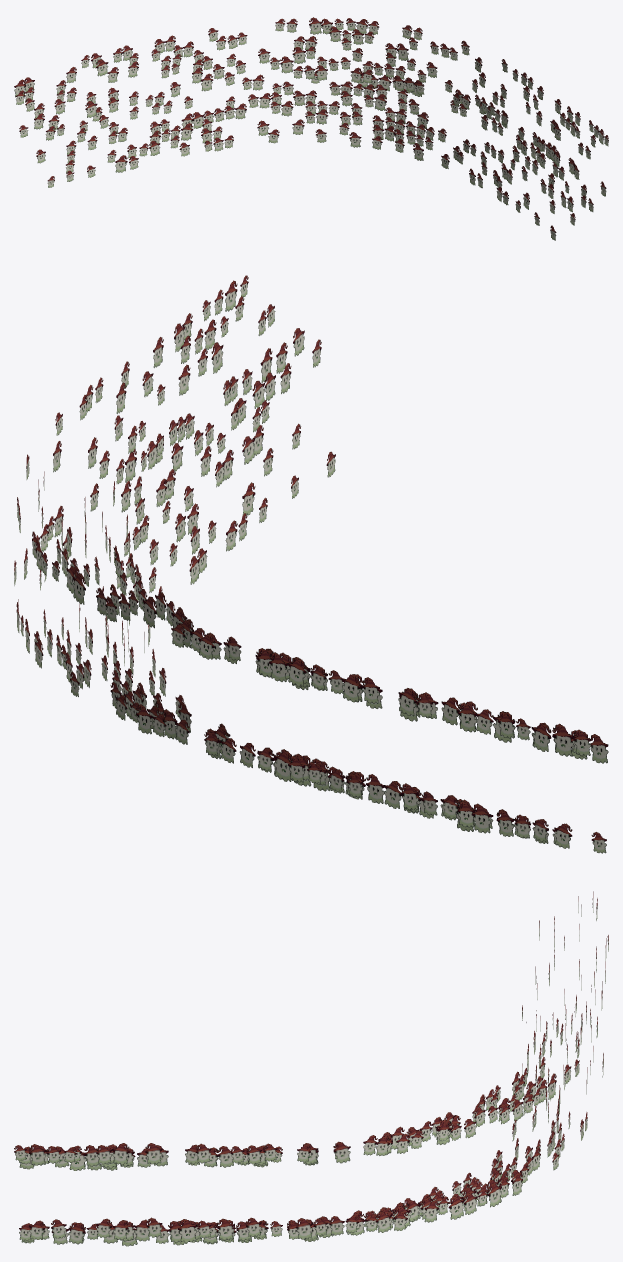
File: fansZ2.fbx
The picture shows the model from 3 angles, top to bottom: view 1: azimuth 30°, elevation 25°; view 2: azimuth 150°, elevation 25°; view 3: azimuth 270°, elevation 25°; orthographic projection. The views are drawn at different scales.
Parts seen in each view (by area): view 1: fansZ2; view 2: fansZ2; view 3: fansZ2.
Part boxes in pixels (bbox=[...]): fansZ2: bbox=[14, 17, 608, 240]; fansZ2: bbox=[14, 275, 608, 853]; fansZ2: bbox=[14, 891, 608, 1246].
Size of the model in its own units: 5966 by 1496 by 5600.
